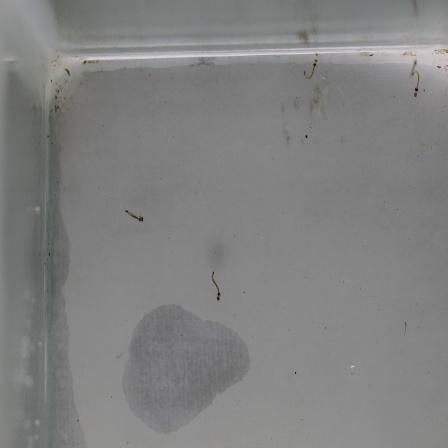Jentik-Nyamuk: (205, 267, 228, 307), (298, 53, 323, 86), (118, 203, 147, 227), (407, 64, 423, 103)
